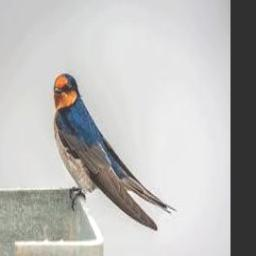Swallow: (54, 73, 177, 231)
